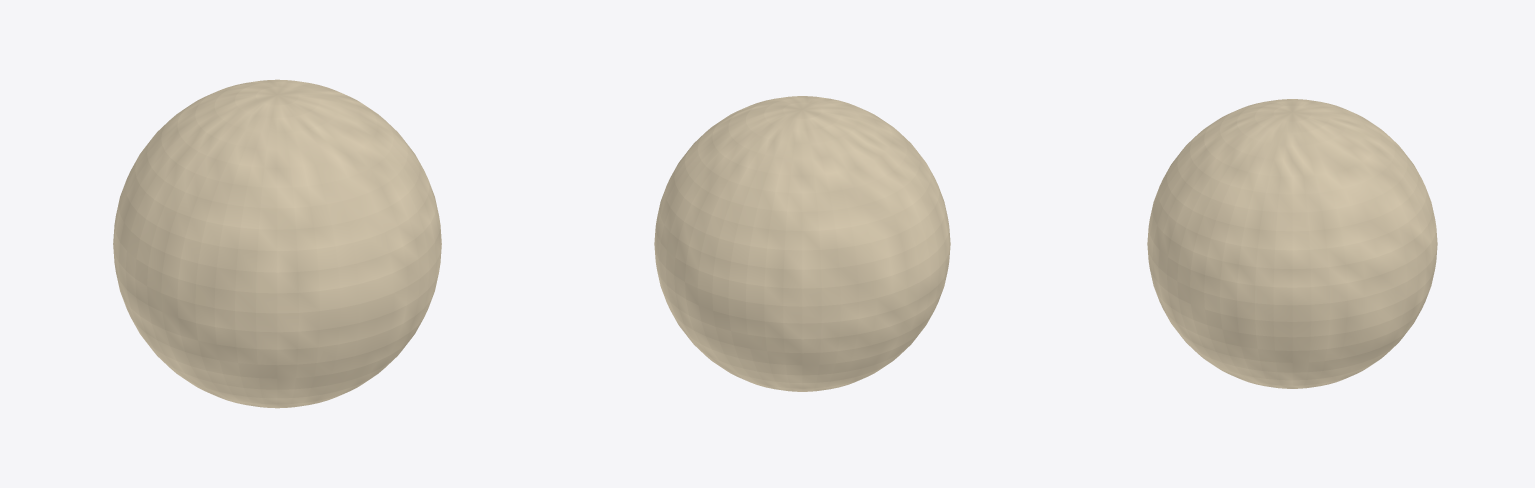
Rendered from star-izar.glb.
The picture shows the model from 3 angles, left to right: view 1: azimuth 30°, elevation 25°; view 2: azimuth 150°, elevation 25°; view 3: azimuth 270°, elevation 25°; orthographic projection. The views are drawn at different scales.
Bounding box in the file's own units: 3.19 × 3.18 × 3.15.
